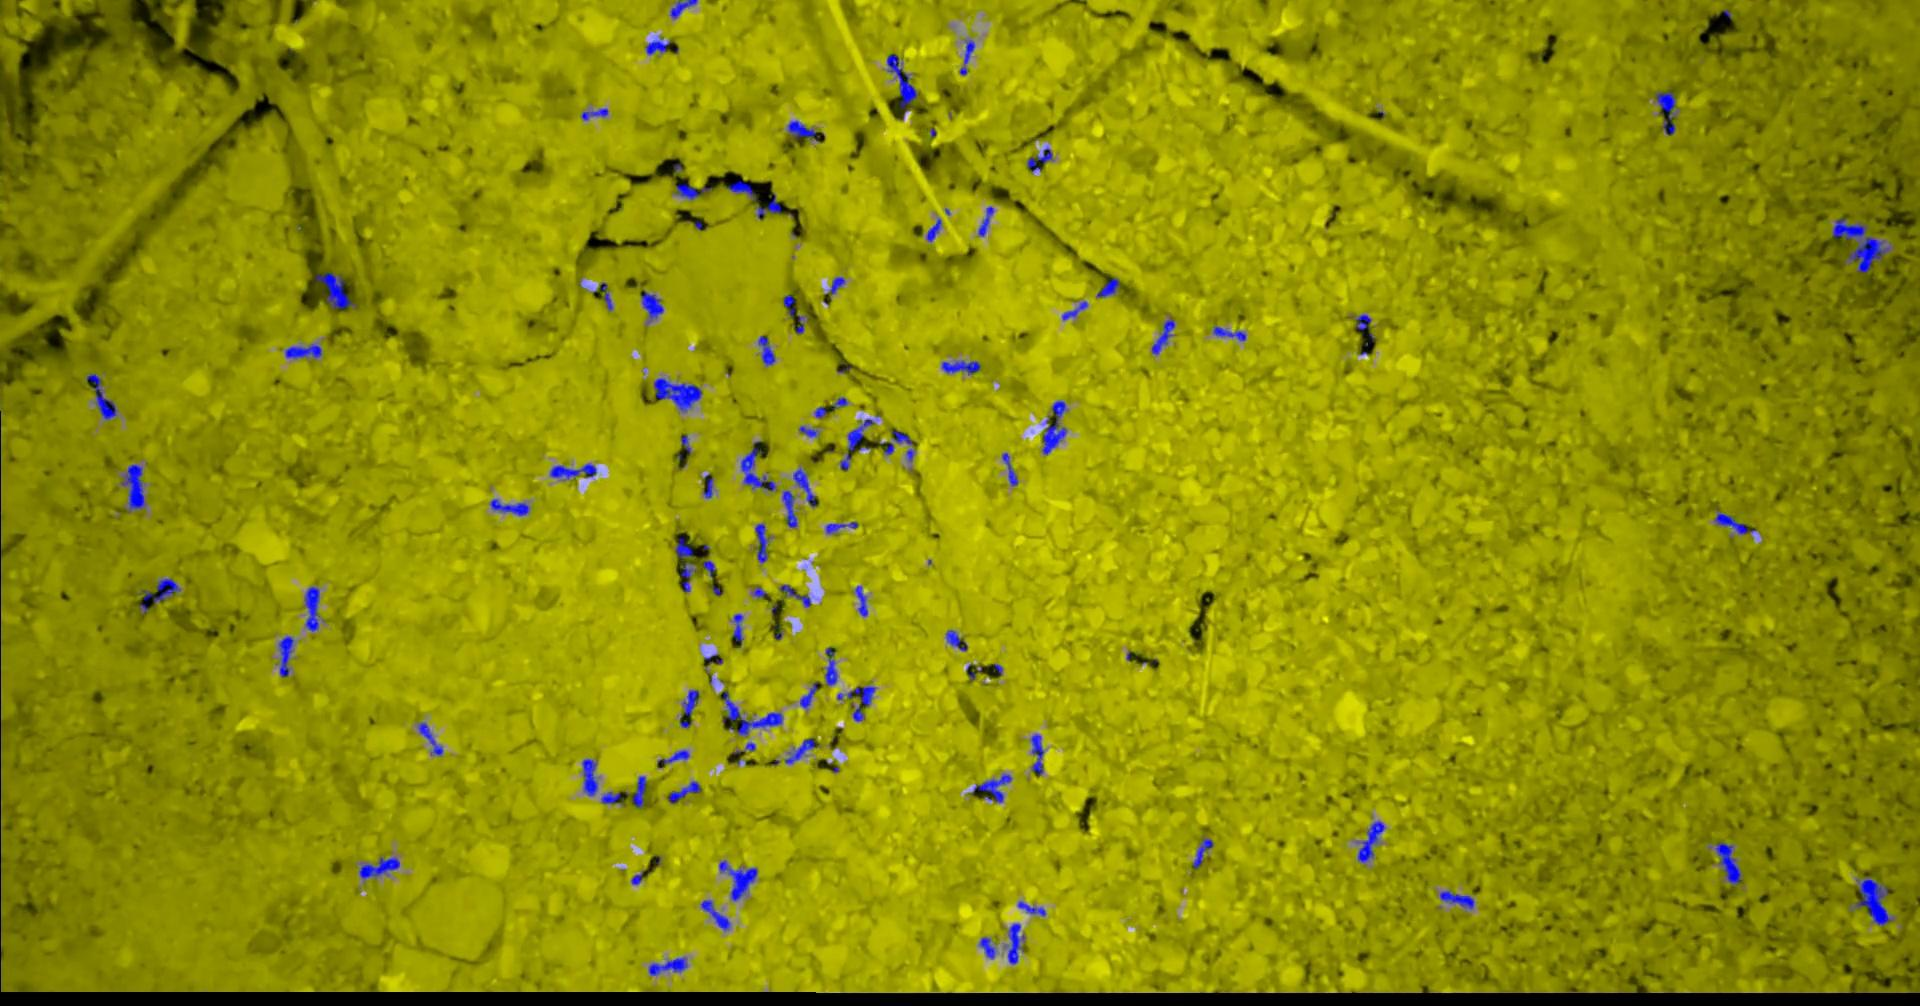ant: (723, 691, 782, 735), (1854, 876, 1892, 925), (886, 55, 917, 114), (839, 418, 874, 469), (740, 439, 775, 490), (653, 377, 701, 412), (717, 860, 757, 901), (314, 272, 356, 307), (85, 373, 116, 419), (138, 578, 179, 612), (837, 686, 875, 721), (1041, 400, 1065, 453), (1356, 821, 1384, 862), (119, 464, 143, 511), (877, 429, 913, 461), (971, 774, 1011, 801), (1716, 841, 1741, 884), (676, 536, 695, 591), (358, 856, 399, 879), (700, 899, 730, 930), (792, 467, 817, 506), (1714, 512, 1756, 533), (1150, 319, 1175, 354), (1655, 91, 1675, 133), (783, 738, 817, 763), (418, 721, 442, 754), (640, 290, 663, 323), (648, 956, 687, 976), (549, 464, 596, 479), (303, 586, 319, 631), (787, 119, 819, 141), (778, 584, 810, 606), (668, 781, 701, 801), (1007, 923, 1023, 963), (757, 192, 781, 218), (1439, 890, 1474, 908), (490, 498, 528, 514), (1026, 147, 1051, 171), (728, 179, 756, 201), (278, 636, 293, 676), (1192, 838, 1213, 868), (676, 183, 711, 199), (657, 749, 690, 767), (284, 343, 321, 358), (582, 758, 597, 795), (941, 359, 980, 373), (1001, 452, 1017, 485), (754, 523, 768, 561), (959, 39, 974, 74), (1030, 734, 1043, 775), (782, 490, 796, 527), (977, 206, 993, 236), (669, 0, 697, 18), (945, 629, 968, 650), (824, 647, 837, 685), (758, 335, 775, 365), (799, 681, 817, 708), (681, 688, 698, 715), (1096, 277, 1119, 297), (631, 776, 646, 807), (1062, 301, 1087, 319), (1213, 326, 1244, 340), (825, 276, 844, 298), (825, 521, 857, 533), (1017, 901, 1045, 915), (645, 39, 670, 55), (855, 586, 867, 616), (731, 614, 743, 647), (926, 218, 941, 241), (979, 936, 994, 958), (601, 282, 612, 310), (580, 108, 607, 119), (631, 869, 649, 884), (783, 293, 795, 316), (601, 791, 623, 803), (1356, 314, 1370, 330), (703, 473, 712, 498), (830, 396, 847, 409), (797, 426, 817, 436), (702, 560, 714, 575)
